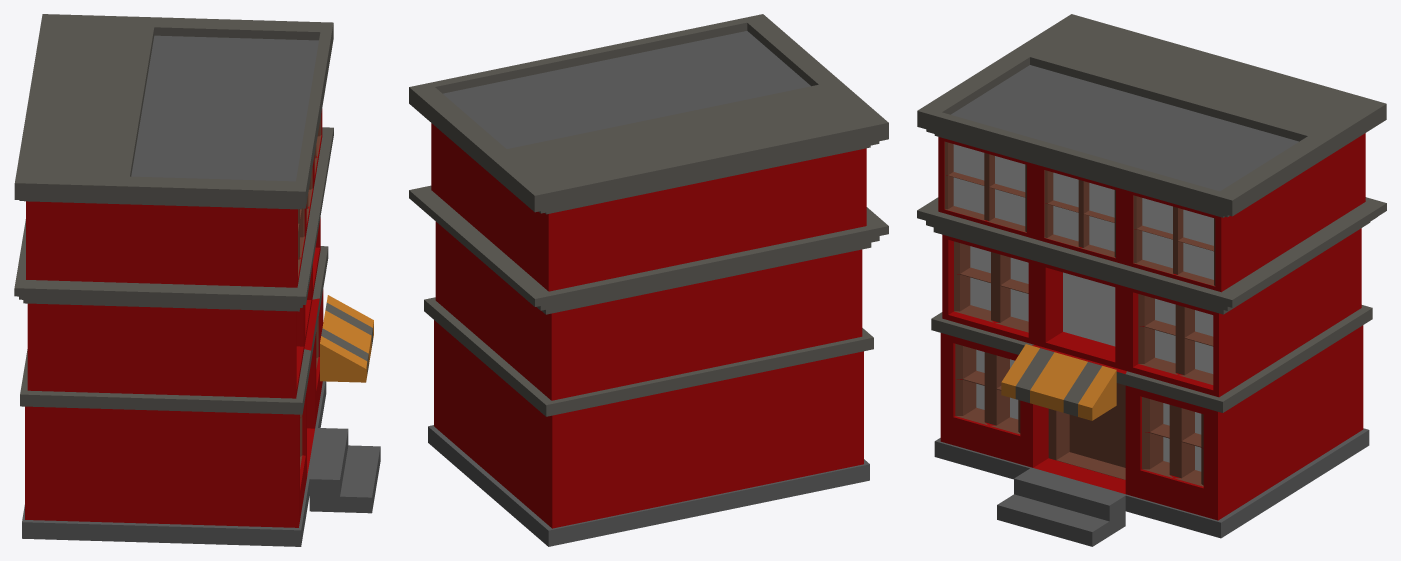
Rendered from Gedung4.glb.
3 renders of one model, left to right at view 1: azimuth 30°, elevation 25°; view 2: azimuth 150°, elevation 25°; view 3: azimuth 270°, elevation 25°, orthographic. The views are drawn at different scales.
Visible parts, largest first — view 1: Cube.091; view 2: Cube.091; view 3: Cube.091.
Part boxes in pixels (x1,y1,x2,y2): Cube.091: (14, 14, 380, 546); Cube.091: (409, 14, 888, 546); Cube.091: (917, 14, 1386, 546).
Bounding box in the file's own units: 15.72 × 14.09 × 16.72.
